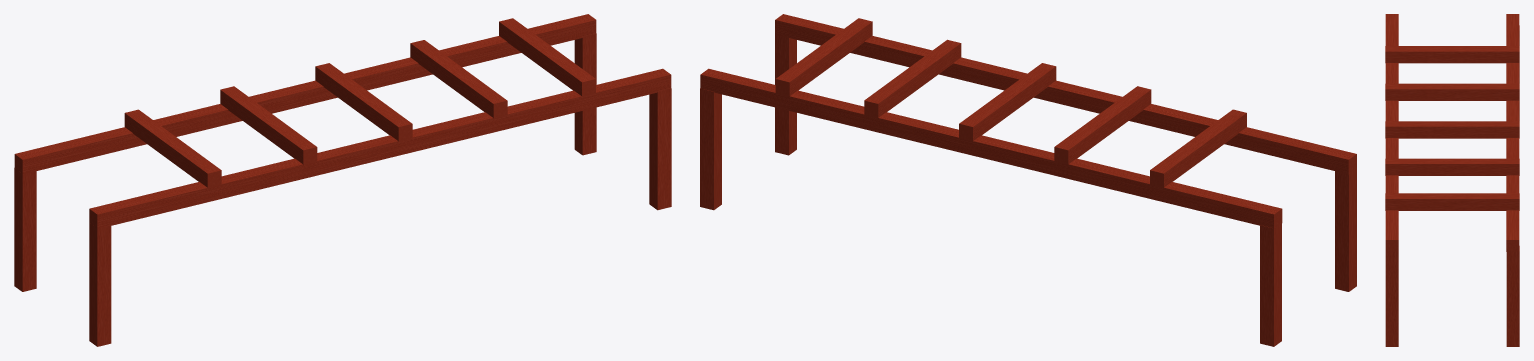
The model's file is huriko_dodai_red.fbx.
3 views of the same model, side by side, from view 1: azimuth 30°, elevation 25°; view 2: azimuth 150°, elevation 25°; view 3: azimuth 270°, elevation 25° (orthographic). The views are drawn at different scales.
Parts seen in each view (by area): view 1: Cube.001; view 2: Cube.001; view 3: Cube.001.
Boxes of the visible parts, x1,y1,x2,y2 form: Cube.001: (14, 14, 671, 346); Cube.001: (700, 14, 1356, 346); Cube.001: (1385, 14, 1519, 346).
Bounding box in the file's own units: 3014 × 735 × 756.
1 material, 1 textured.
